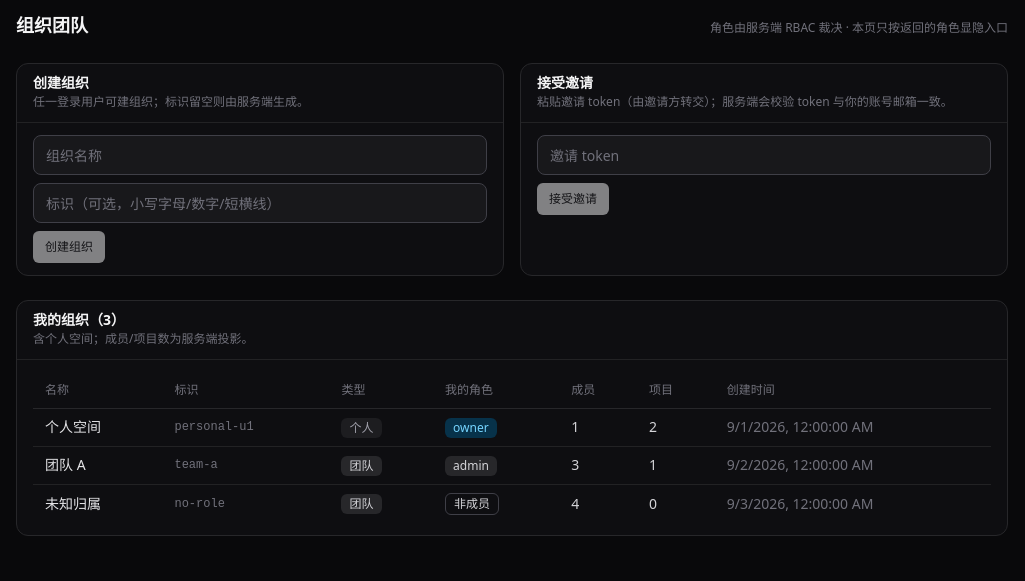
/organizations 创建组织 › 创建被服务端拒绝（403 FORBIDDEN）：如实呈现
The image size is (1025, 581).
Expected: the link "团队 A" is shown, [45,455,86,474]
Step 1. Type "团队 D" into the field labelled "组织名称" → (260, 155), box [33,135,487,175]
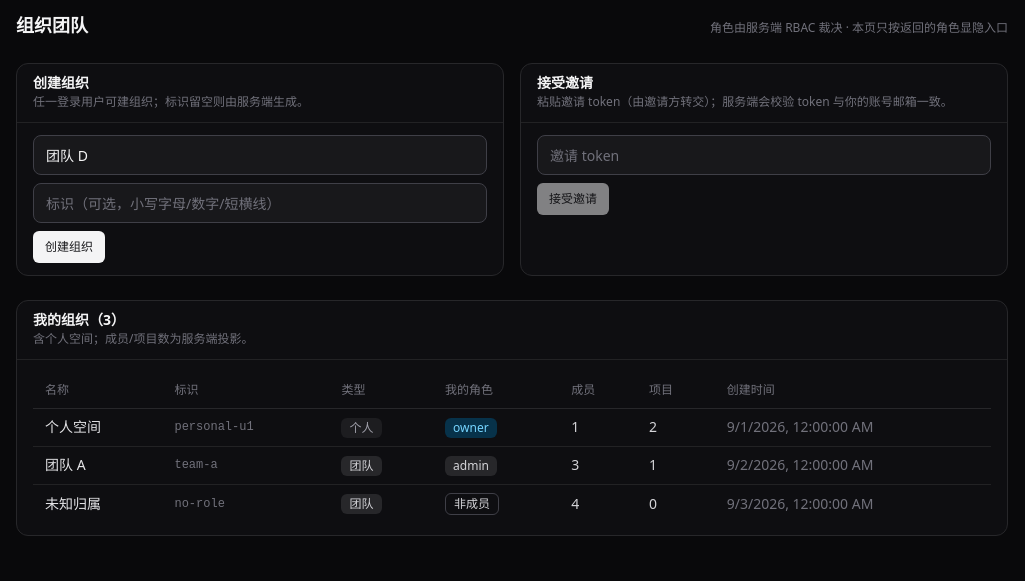
Step 2. Click the button "创建组织" → (69, 247), box [33,231,105,263]
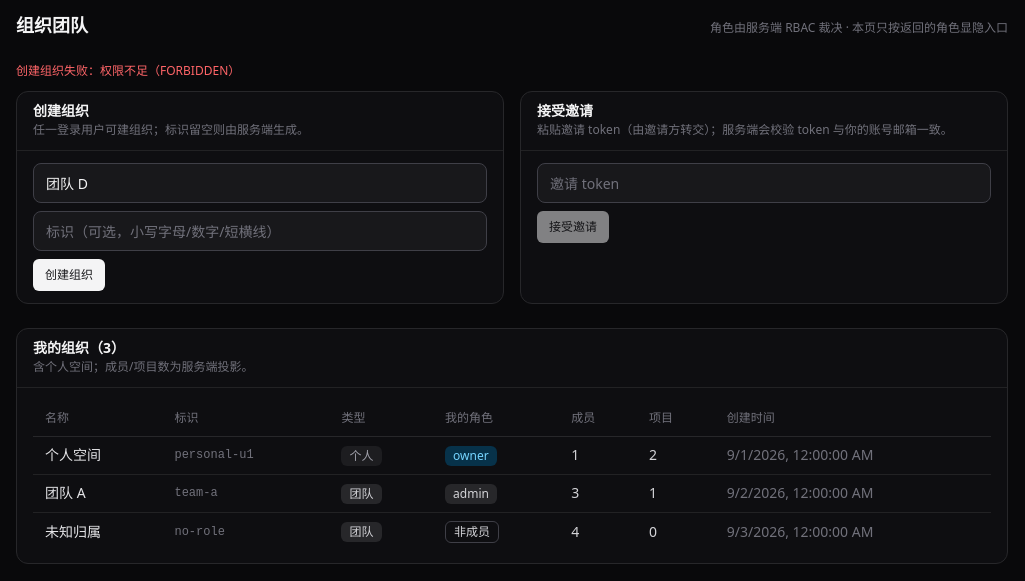
Now the message reads "创建组织失败：权限不足（FORBIDDEN）", box [16,62,240,79]
